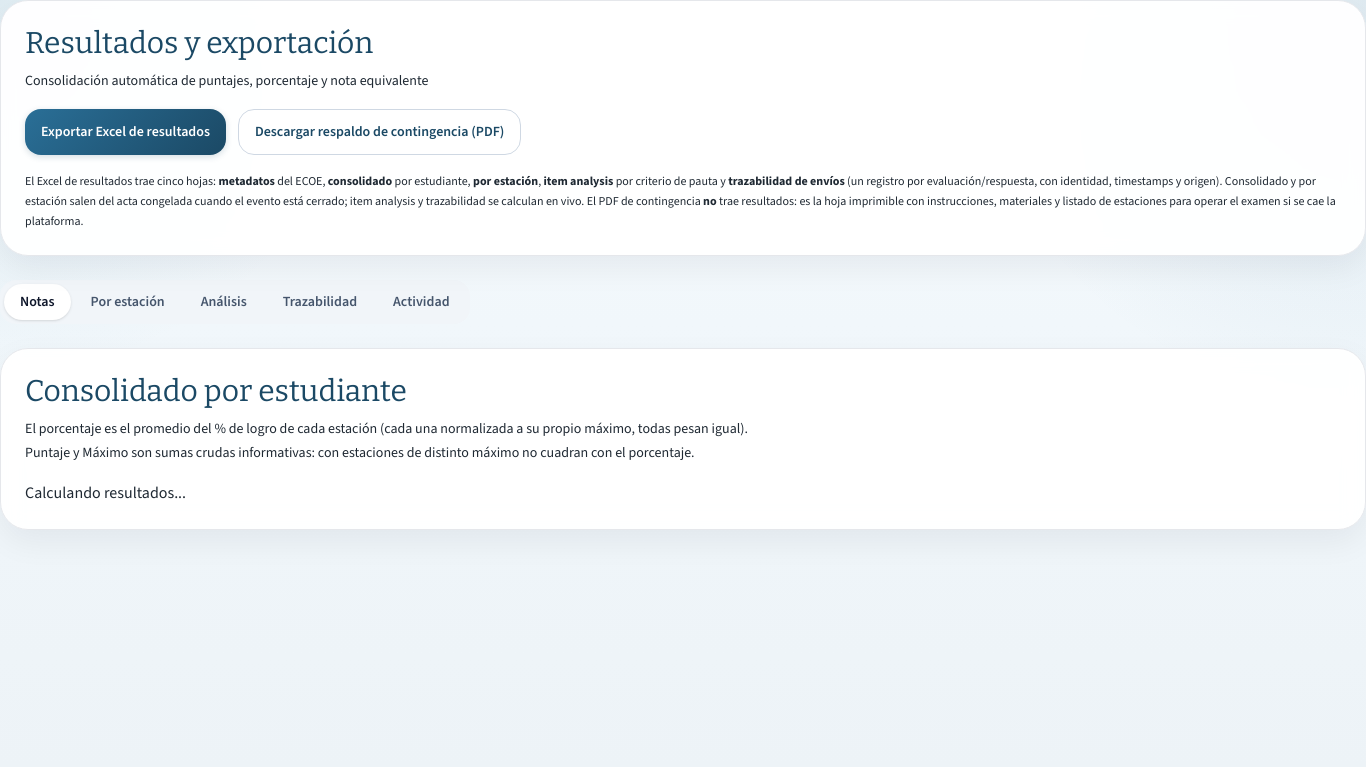
Test case: ResultsPage — pestañas UX-7 › Trazabilidad reúne el resumen operativo y ambas trazas, sin dejar Notas a la vista
Click the tab "Trazabilidad" at (320, 302), box [267,284,373,320]
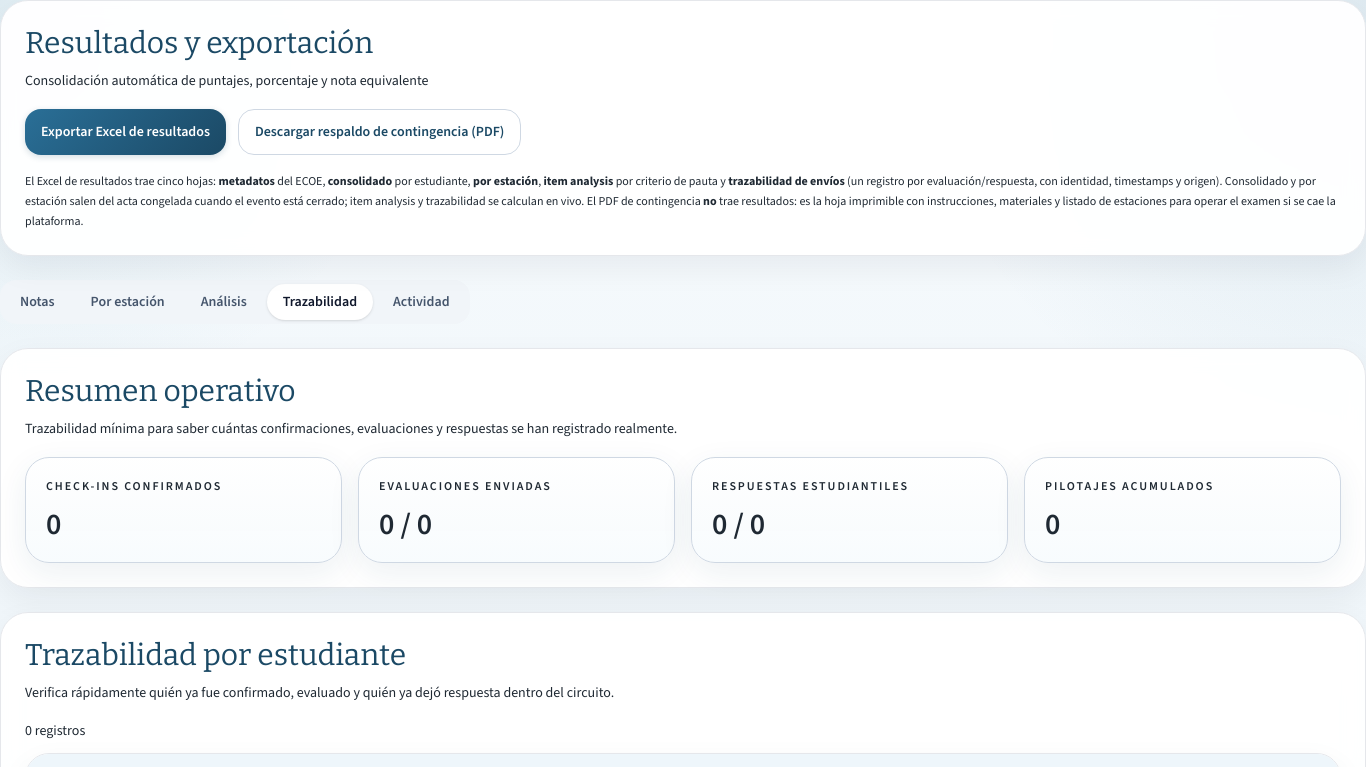
Expected: the link "Exportar Excel de resultados" is shown, [25,109,226,155]
Expected: the heading "Resumen operativo" is shown, [25,373,296,409]
Expected: the heading "Trazabilidad por estudiante" is shown, [25,637,406,673]
